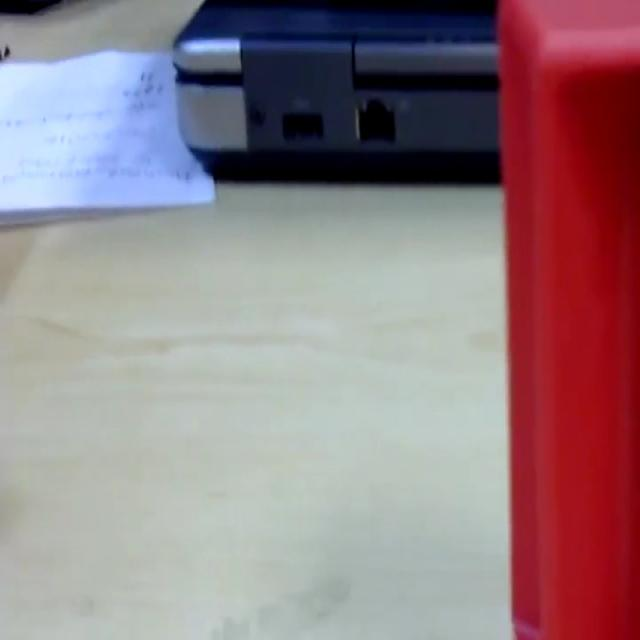red_block: (496, 1, 638, 636)
